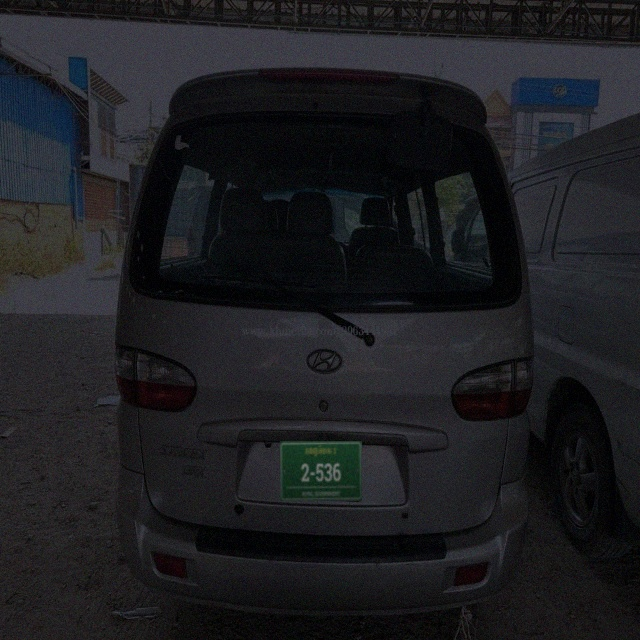Plate Number: (281, 442, 362, 501)
